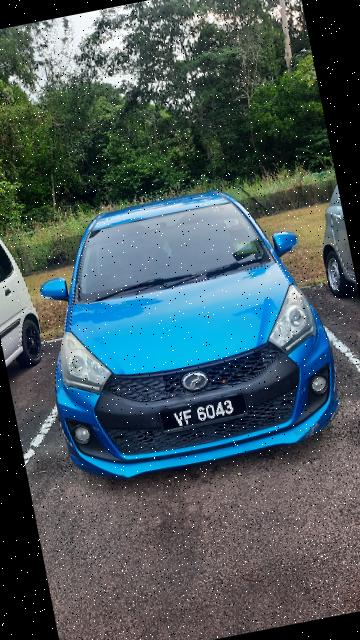License_Plate: (156, 391, 253, 439)
car: (19, 173, 353, 500)
